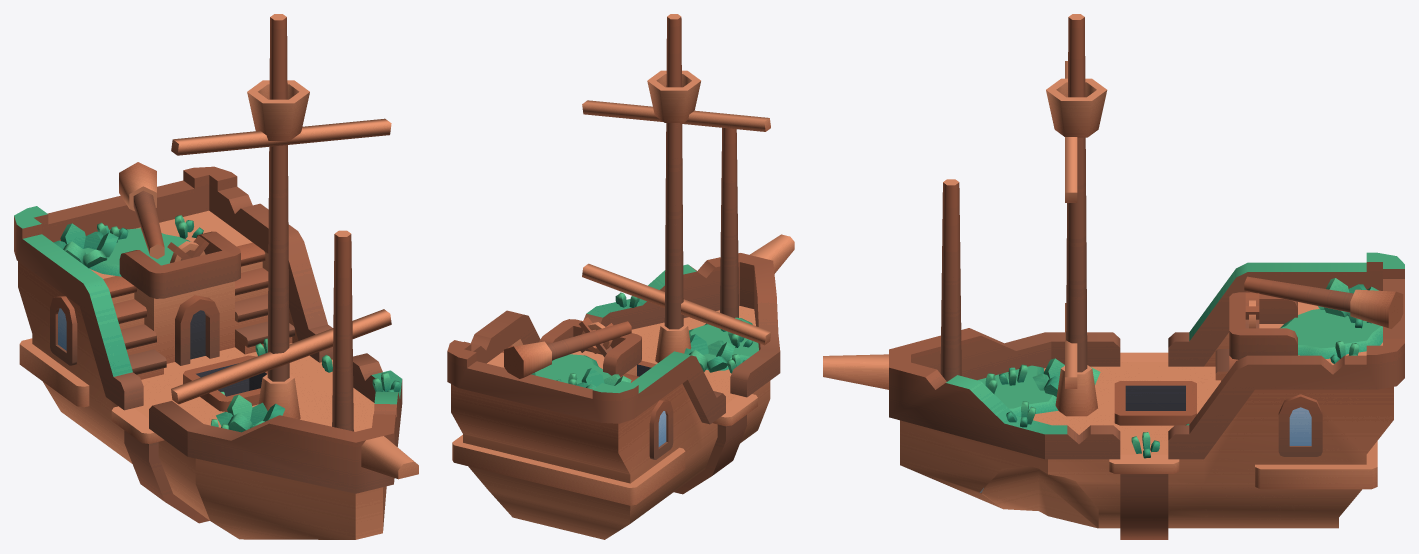
The model's file is ship-wreck.glb.
3 renders of one model, left to right at view 1: azimuth 30°, elevation 25°; view 2: azimuth 150°, elevation 25°; view 3: azimuth 270°, elevation 25°, orthographic. The views are drawn at different scales.
Visible parts, largest first — view 1: ship-wreck, sail-a, Group, Group.004, Group.001, Group.003; view 2: ship-wreck, sail-a, Group, Group.001, Group.003, Group.002, Group.004; view 3: ship-wreck, Group, Group.001, Group.002, sail-a, Group.003.
Part boxes in pixels (x1=…): ship-wreck: x1=14, y1=14, x2=418, y2=539; sail-a: x1=171, y1=118, x2=391, y2=404; Group: x1=119, y1=162, x2=164, y2=259; Group.004: x1=54, y1=223, x2=118, y2=268; Group.001: x1=83, y1=228, x2=190, y2=276; Group.003: x1=216, y1=394, x2=284, y2=432; ship-wreck: x1=447, y1=14, x2=794, y2=539; sail-a: x1=582, y1=100, x2=771, y2=345; Group: x1=504, y1=321, x2=631, y2=378; Group.001: x1=531, y1=354, x2=611, y2=384; Group.003: x1=684, y1=334, x2=735, y2=372; Group.002: x1=689, y1=317, x2=758, y2=370; Group.004: x1=576, y1=368, x2=631, y2=389; ship-wreck: x1=823, y1=14, x2=1404, y2=539; Group: x1=1244, y1=276, x2=1403, y2=328; Group.001: x1=1280, y1=309, x2=1382, y2=358; Group.002: x1=977, y1=365, x2=1058, y2=416; sail-a: x1=1065, y1=61, x2=1077, y2=388; Group.003: x1=1032, y1=358, x2=1100, y2=396.
Size of the model in its own units: 4.8 by 9.96 by 10.6.
1 material, 1 textured.
